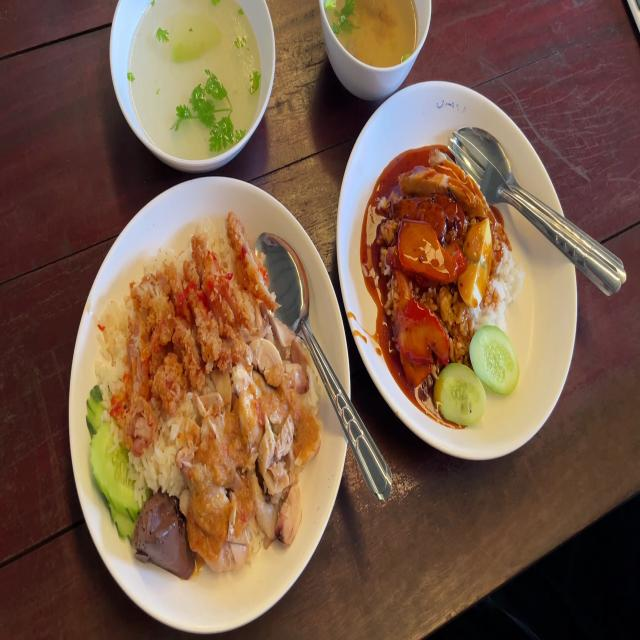chicken_rice: (179, 321, 316, 564)
noodle: (134, 485, 193, 574)
red_pork_and_crispy_pork: (459, 214, 496, 307)
stir_fried_basil: (401, 182, 467, 235)
